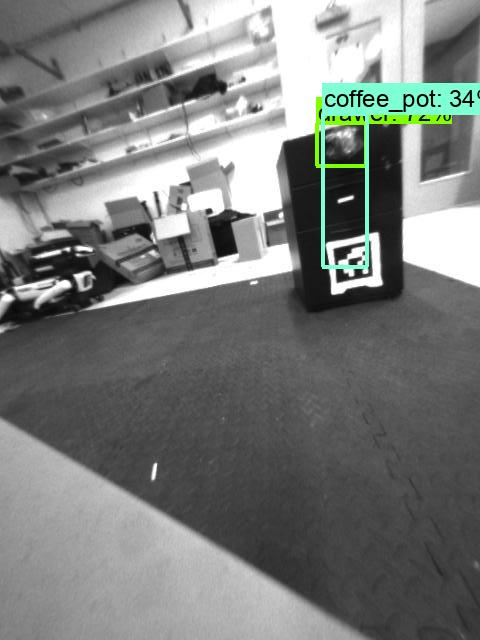drawer: (316, 125, 367, 166)
